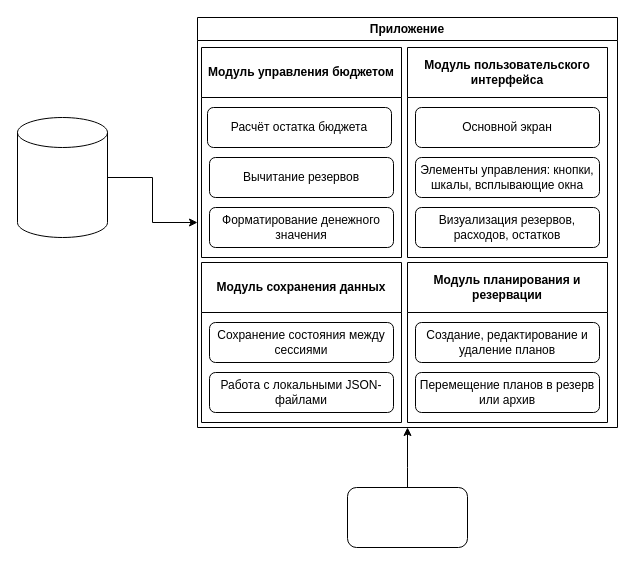
The diagram is 635 pixels wide and 565 high, and some of its shapes have lost their labels. Each missing label, with the centre of its shape:
Godot Engine: the point at 407,517
JSON: the point at 62,177
